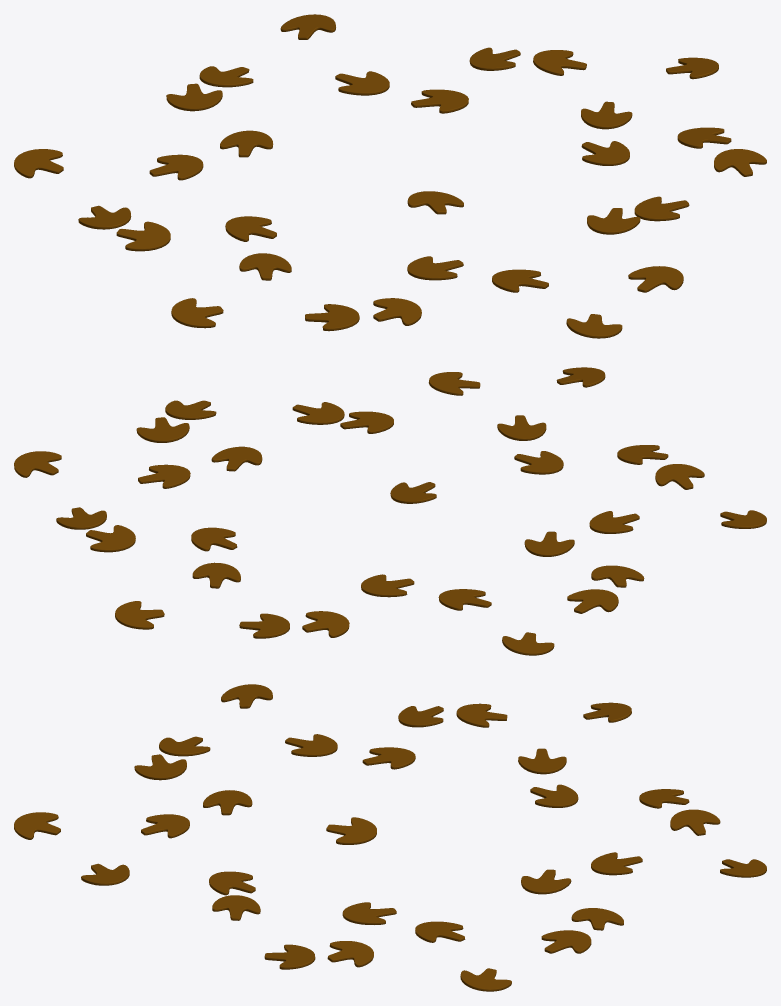
Rendered from mushroomCut 1.fbx.
3 renders of one model, top to bottom at view 1: azimuth 30°, elevation 25°; view 2: azimuth 150°, elevation 25°; view 3: azimuth 270°, elevation 25°, orthographic. The views are drawn at different scales.
Parts seen in each view (by area): view 1: Circle.100, Circle.097, Circle.062, Circle.030, Circle.065, Circle.135, Circle.133, Circle.206, Circle.066, Circle.098, Circle.028, Circle.134 (+17 smaller); view 2: Circle.170, Circle.132, Circle.167, Circle.101, Circle.135, Circle.205, Circle.066, Circle.203, Circle.168, Circle.136, Circle.099, Circle.204 (+17 smaller); view 3: Circle.029, Circle.026, Circle.171, Circle.205, Circle.065, Circle.136, Circle.063, Circle.206, Circle.027, Circle.064, Circle.169, Circle.204 (+17 smaller).
Boxes of the visible parts, x1,y1,x2,y2 form: Circle.100: (116, 221, 170, 251); Circle.097: (14, 149, 63, 178); Circle.062: (171, 298, 223, 328); Circle.030: (628, 266, 683, 292); Circle.065: (373, 298, 421, 325); Circle.135: (166, 83, 222, 111); Circle.133: (335, 71, 389, 95); Circle.206: (714, 149, 766, 176); Circle.066: (305, 304, 359, 331); Circle.098: (149, 154, 203, 180); Circle.028: (407, 256, 463, 280); Circle.134: (411, 89, 468, 113); Circle.170: (86, 525, 135, 552); Circle.132: (115, 601, 164, 629); Circle.167: (14, 451, 61, 477); Circle.101: (567, 589, 618, 613); Circle.135: (302, 611, 349, 637); Circle.205: (136, 417, 189, 442); Circle.066: (655, 464, 704, 489); Circle.203: (292, 402, 344, 424); Circle.168: (138, 464, 190, 488); Circle.136: (239, 613, 289, 638); Circle.099: (361, 574, 414, 597); Circle.204: (340, 411, 393, 433); Circle.029: (326, 817, 376, 844); Circle.026: (14, 812, 60, 839); Circle.171: (541, 930, 591, 953); Circle.205: (327, 941, 373, 967); Circle.065: (134, 754, 186, 780); Circle.136: (670, 809, 720, 835); Circle.063: (285, 734, 337, 756); Circle.206: (264, 944, 315, 969); Circle.027: (141, 814, 189, 838); Circle.064: (362, 747, 415, 769); Circle.169: (342, 902, 396, 924); Circle.204: (209, 871, 255, 895).
Size of the model in its own units: 118 by 1.79 by 124.
